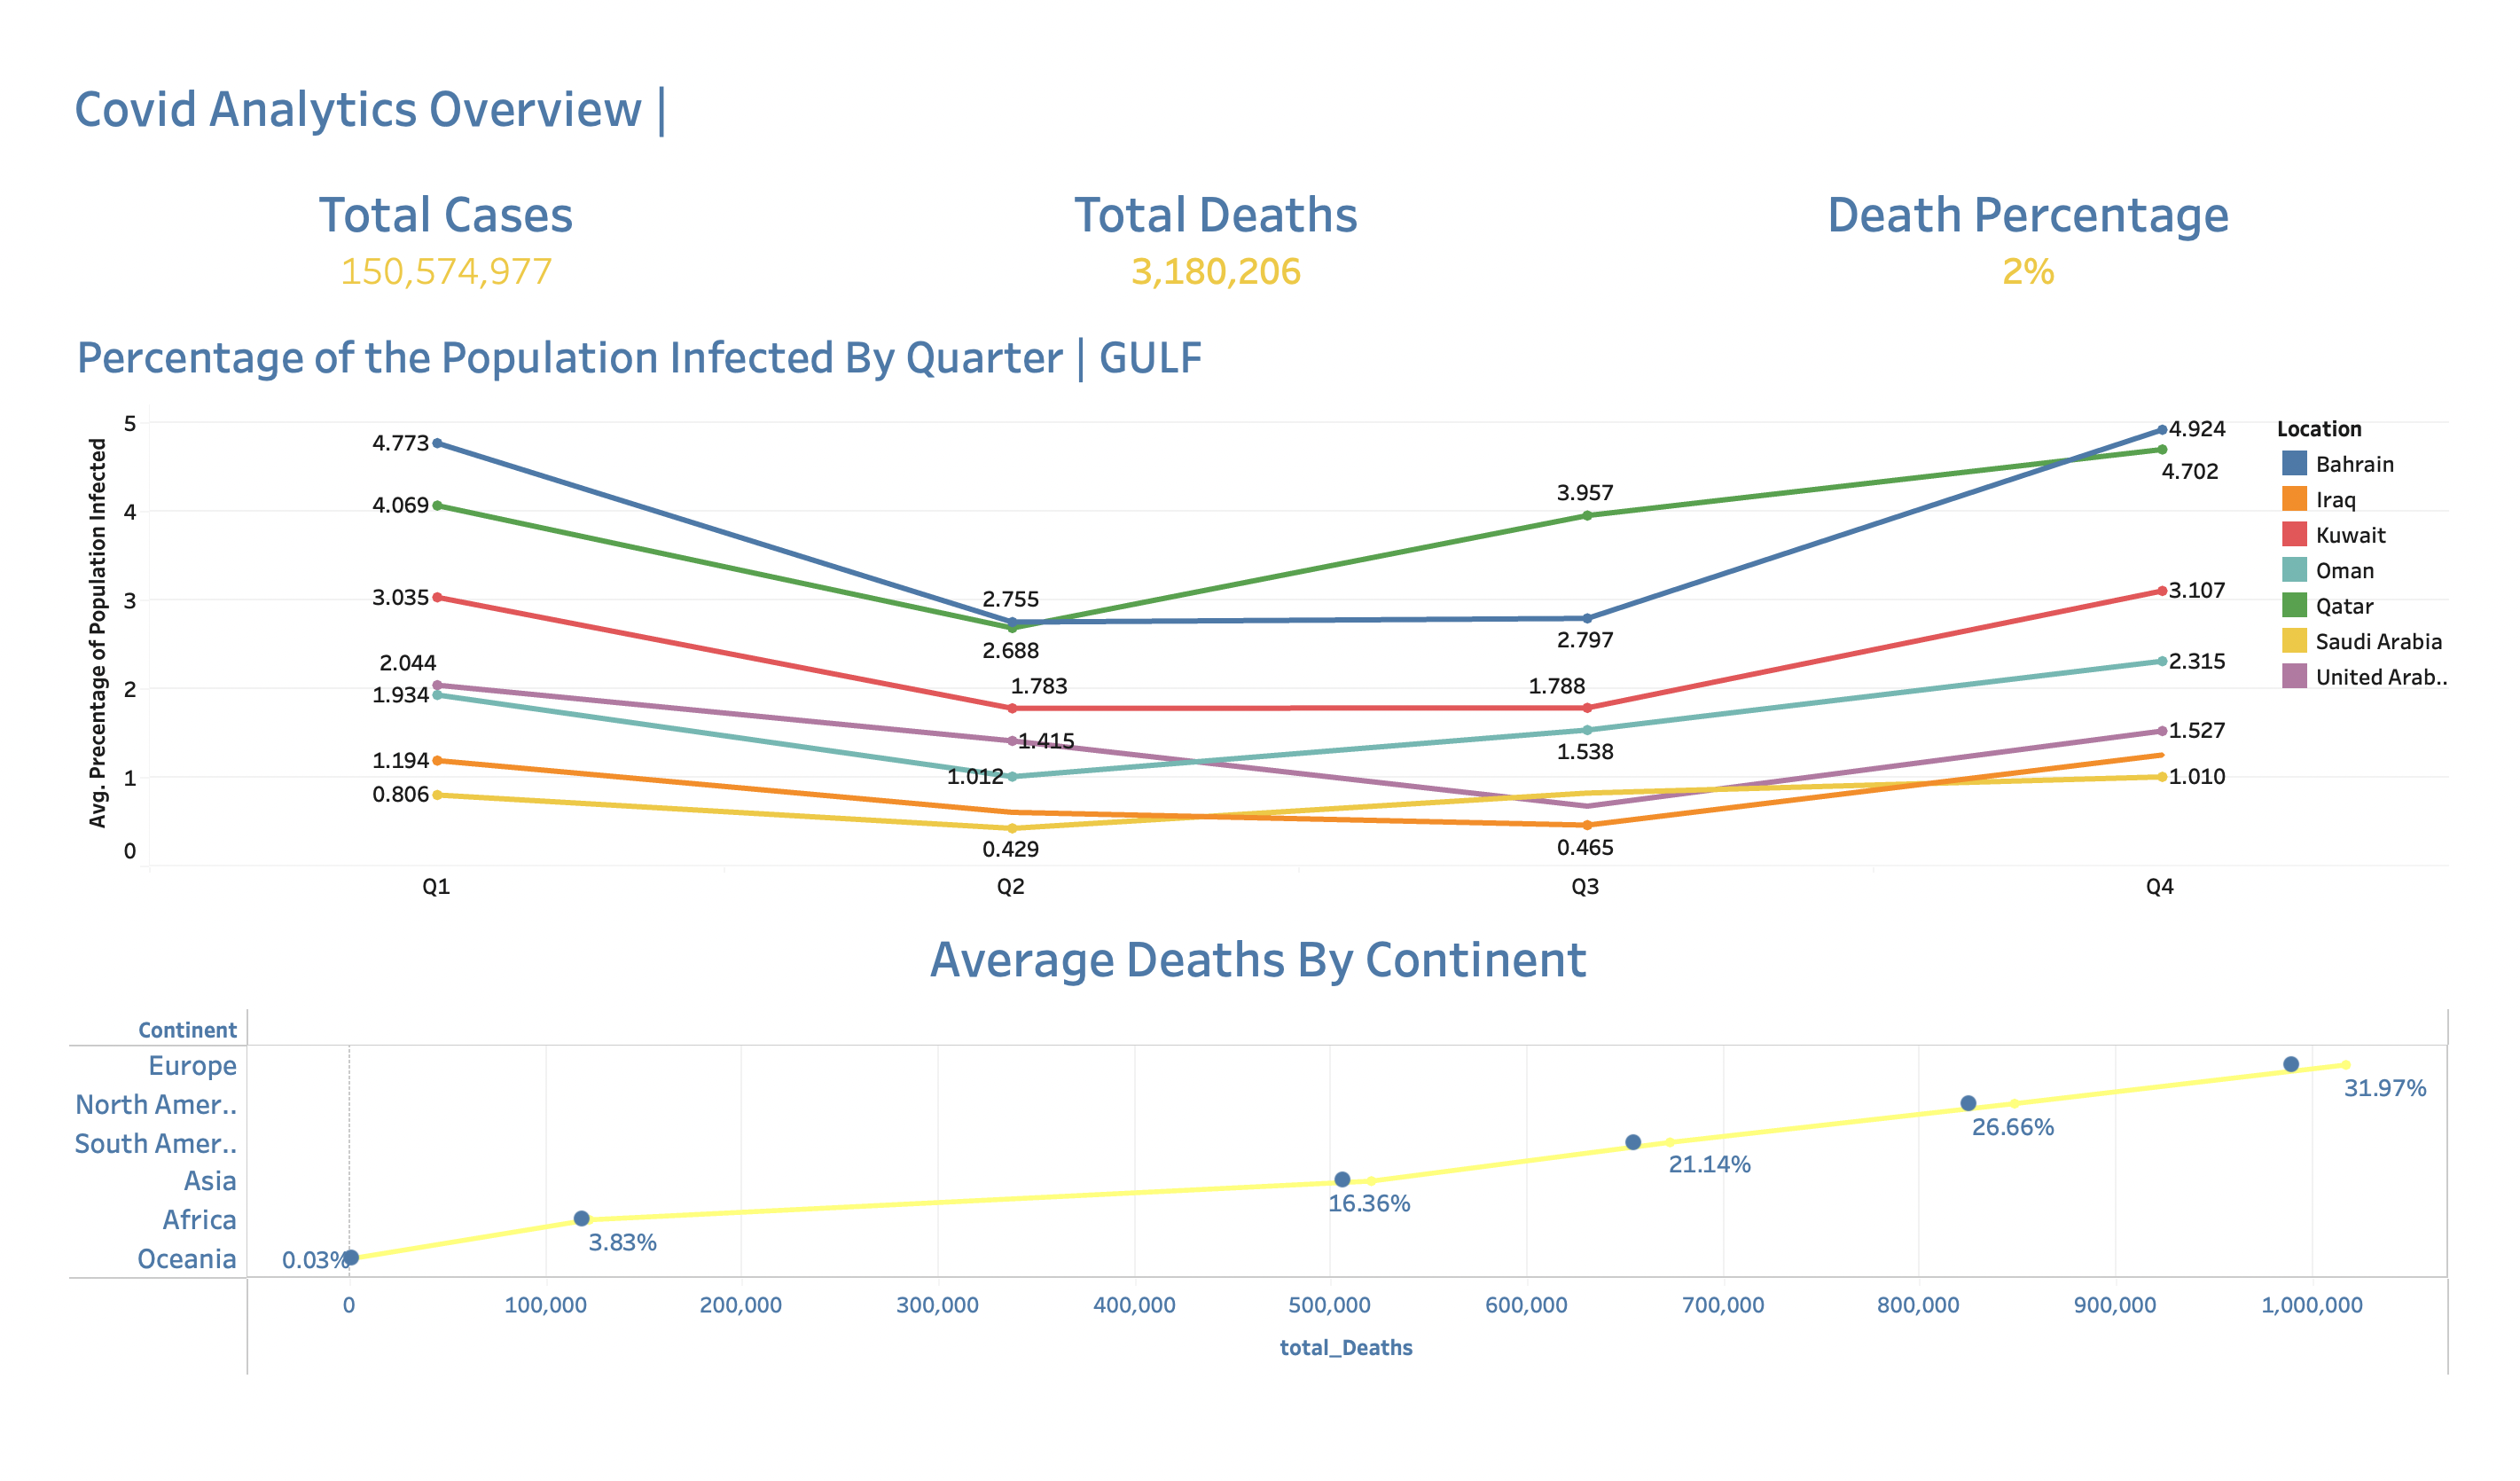

The dashboard page shown, as its layout file describes it:
{"tool":"tableau","page":{"name":"Dashboard 1","canvas":[1000,800],"ordinal":0},"visuals":[{"type":"worksheet","title":"Sheet 2","mark":"Automatic","rows":["total_Deaths"],"cols":["location"],"box":[8,8,412,784]},{"type":"worksheet","title":"Sheet 3","mark":"Automatic","box":[420,8,412,392]},{"type":"legend","title":"Sheet 2","param":"[federated.0bc55dz0yajysc1fgwuwr0ogtkei].[none:location:nk]","box":[832,8,160,146]},{"type":"legend","title":"Sheet 3","param":"[federated.133rai60epao7j14lc7yu0pmbf0e].[sum:Precentage_of_Population_Infected:","box":[832,154,160,65]},{"type":"legend","title":"Sheet 4","param":"[federated.008hzpl0gv25ri15fjk9q1jj80pi].[none:location:nk]","box":[832,219,160,166]},{"type":"worksheet","title":"Sheet 4","mark":"Automatic","rows":["Precentage_of_Population_Infected"],"cols":["date"],"box":[420,400,412,196]},{"type":"worksheet","title":"Sheet 1","mark":"Automatic","box":[420,596,412,196]}]}

Visuals, with their boxes on the page's 1000x800 design canvas (x1, y1, x2, y2). These are canvas units, not pixel positions in the 2520x1481 screenshot, which may show the page scaled, cropped or inside an application window:
"Sheet 2" worksheet: bbox=[8, 8, 420, 792]
"Sheet 3" worksheet: bbox=[420, 8, 832, 400]
"Sheet 2" legend: bbox=[832, 8, 992, 154]
"Sheet 3" legend: bbox=[832, 154, 992, 219]
"Sheet 4" legend: bbox=[832, 219, 992, 385]
"Sheet 4" worksheet: bbox=[420, 400, 832, 596]
"Sheet 1" worksheet: bbox=[420, 596, 832, 792]
